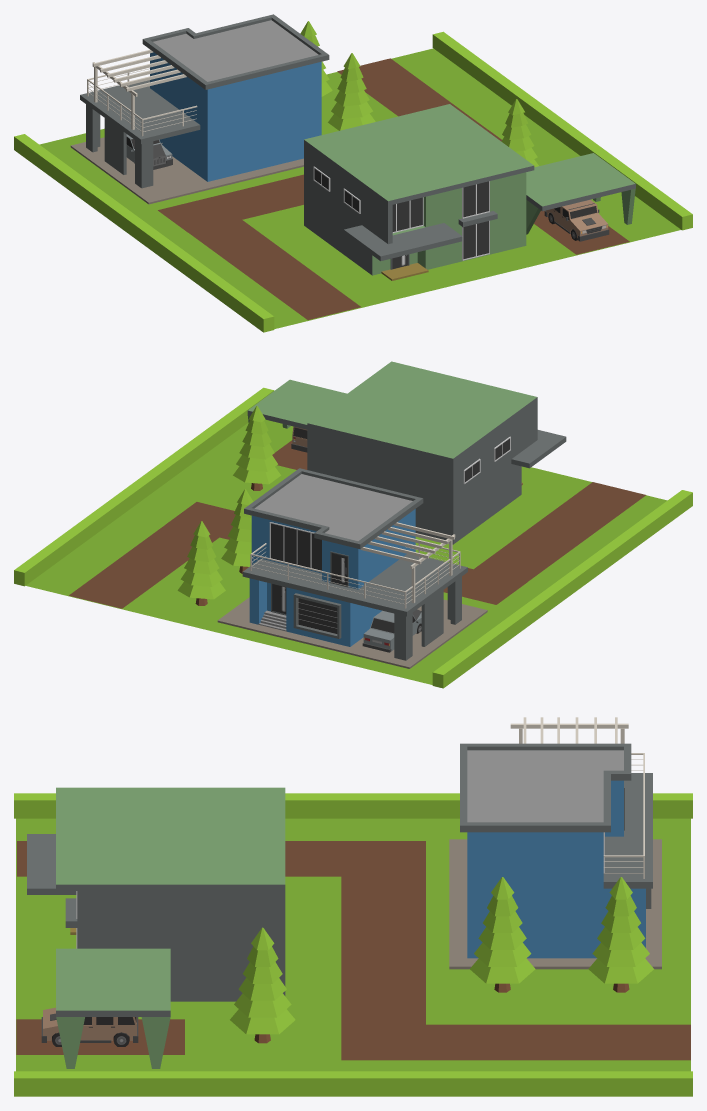
File: house3.gltf
3 renders of one model, top to bottom at view 1: azimuth 30°, elevation 25°; view 2: azimuth 150°, elevation 25°; view 3: azimuth 270°, elevation 25°, orthographic. The views are drawn at different scales.
Visible parts, largest first — view 1: Building_House_04_color01_Cube.099, Building_House_01_color01_Cube.024, Natures_Grass Tile_Plane.010, Road Concrete Tile_Plane.010 (×4), Natures_Grass Fence_Cube.2536 (×2), Natures_Fir Tree_Cylinder.004 (×2), Vehicle_SUV_Cube.096, Vehicle_Car_Cube.050; view 2: Building_House_01_color01_Cube.024, Building_House_04_color01_Cube.099, Natures_Grass Tile_Plane.010, Road Concrete Tile_Plane.010 (×4), Natures_Grass Fence_Cube.2536 (×2), Natures_Fir Tree_Cylinder.004 (×3), Vehicle_Car_Cube.050; view 3: Natures_Grass Tile_Plane.010, Building_House_04_color01_Cube.099, Building_House_01_color01_Cube.024, Road Concrete Tile_Plane.010 (×4), Natures_Grass Fence_Cube.2536 (×2), Natures_Fir Tree_Cylinder.004 (×3), Vehicle_SUV_Cube.096.
Boxes of the visible parts, box(x1,y1,x2,y2) form: Building_House_04_color01_Cube.099: box(304, 104, 635, 280); Building_House_01_color01_Cube.024: box(70, 14, 329, 204); Natures_Grass Tile_Plane.010: box(39, 48, 680, 328); Road Concrete Tile_Plane.010 (×4): box(158, 58, 629, 319); Natures_Grass Fence_Cube.2536 (×2): box(14, 31, 692, 332); Natures_Fir Tree_Cylinder.004 (×2): box(328, 53, 538, 167); Vehicle_SUV_Cube.096: box(544, 199, 609, 241); Vehicle_Car_Cube.050: box(126, 134, 172, 169); Building_House_01_color01_Cube.024: box(217, 468, 487, 668); Building_House_04_color01_Cube.099: box(247, 361, 566, 544); Natures_Grass Tile_Plane.010: box(26, 419, 667, 684); Road Concrete Tile_Plane.010 (×4): box(69, 440, 645, 608); Natures_Grass Fence_Cube.2536 (×2): box(14, 387, 692, 688); Natures_Fir Tree_Cylinder.004 (×3): box(177, 406, 280, 605); Vehicle_Car_Cube.050: box(362, 609, 421, 652); Natures_Grass Tile_Plane.010: box(16, 818, 690, 1071); Building_House_04_color01_Cube.099: box(27, 787, 285, 1068); Building_House_01_color01_Cube.024: box(449, 717, 661, 969); Road Concrete Tile_Plane.010 (×4): box(16, 841, 690, 1060); Natures_Grass Fence_Cube.2536 (×2): box(14, 793, 692, 1096); Natures_Fir Tree_Cylinder.004 (×3): box(230, 877, 653, 1043); Vehicle_SUV_Cube.096: box(41, 1007, 138, 1046).
Bounding box in the file's own units: 40 × 9.27 × 40.25.
Materials: 8 (8 with a texture image).
